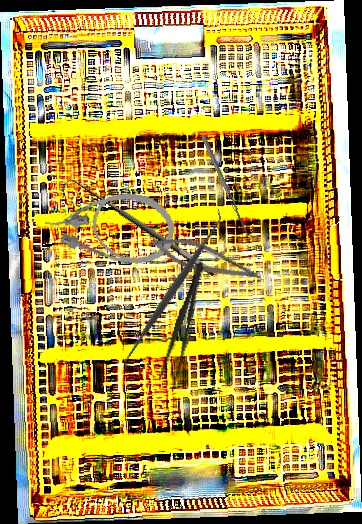Cannula: (40, 178, 180, 271)
Dressing Forceps: (155, 259, 211, 393)
Hook Surgical: (59, 171, 218, 288)
Micro Scissor: (147, 230, 268, 288)
Spatula Surgical: (113, 207, 233, 371), (201, 133, 255, 241)
